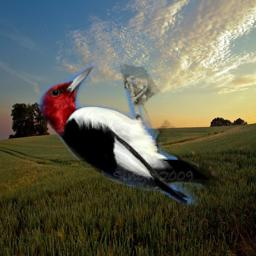Woodpecker: (19, 58, 226, 213)
